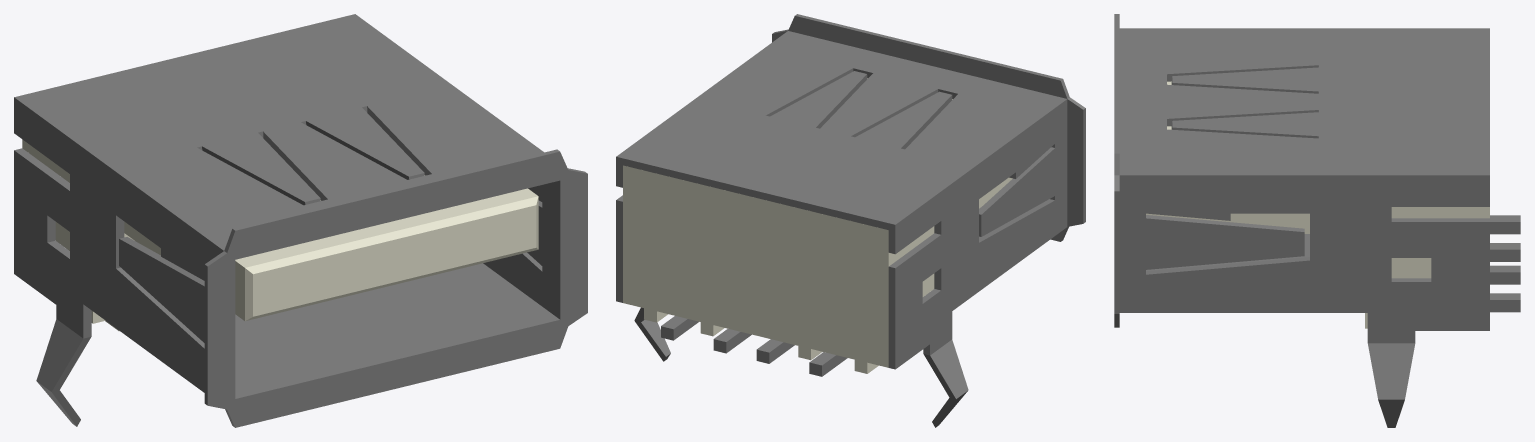
File: kc-usb_a_te_292303-7_horizontal.glb
3 renders of one model, left to right at view 1: azimuth 30°, elevation 25°; view 2: azimuth 150°, elevation 25°; view 3: azimuth 270°, elevation 25°, orthographic. The views are drawn at different scales.
Parts seen in each view (by area): view 1: 0.25_0.25_0.25_0, 0.75_0.75_0.6666666666666666_0; view 2: 0.25_0.25_0.25_0, 0.75_0.75_0.6666666666666666_0; view 3: 0.25_0.25_0.25_0, 0.75_0.75_0.6666666666666666_0.
Part boxes in pixels (box(x1,y1,x2,y2)): 0.25_0.25_0.25_0: box(14, 14, 587, 427); 0.75_0.75_0.6666666666666666_0: box(22, 139, 538, 331); 0.25_0.25_0.25_0: box(616, 14, 1085, 427); 0.75_0.75_0.6666666666666666_0: box(623, 78, 1012, 373); 0.25_0.25_0.25_0: box(1114, 14, 1520, 427); 0.75_0.75_0.6666666666666666_0: box(1146, 81, 1489, 328).
Size of the model in its own units: 1.51 by 1.14 by 1.54.
